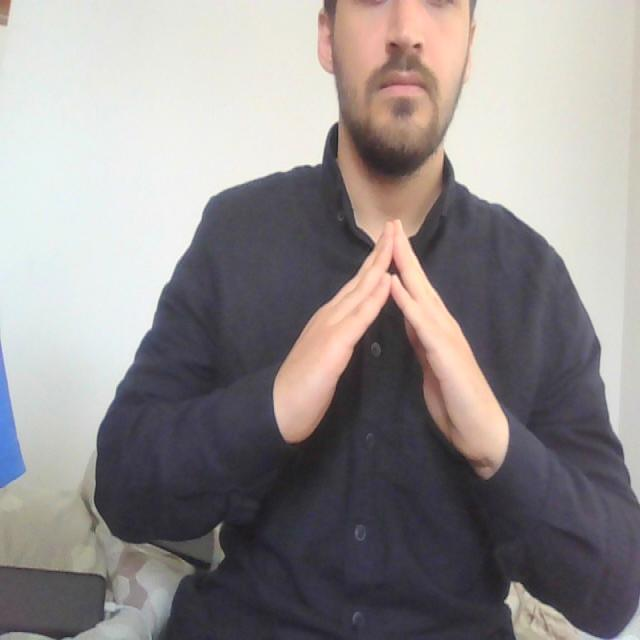Ev: (273, 215, 511, 469)
